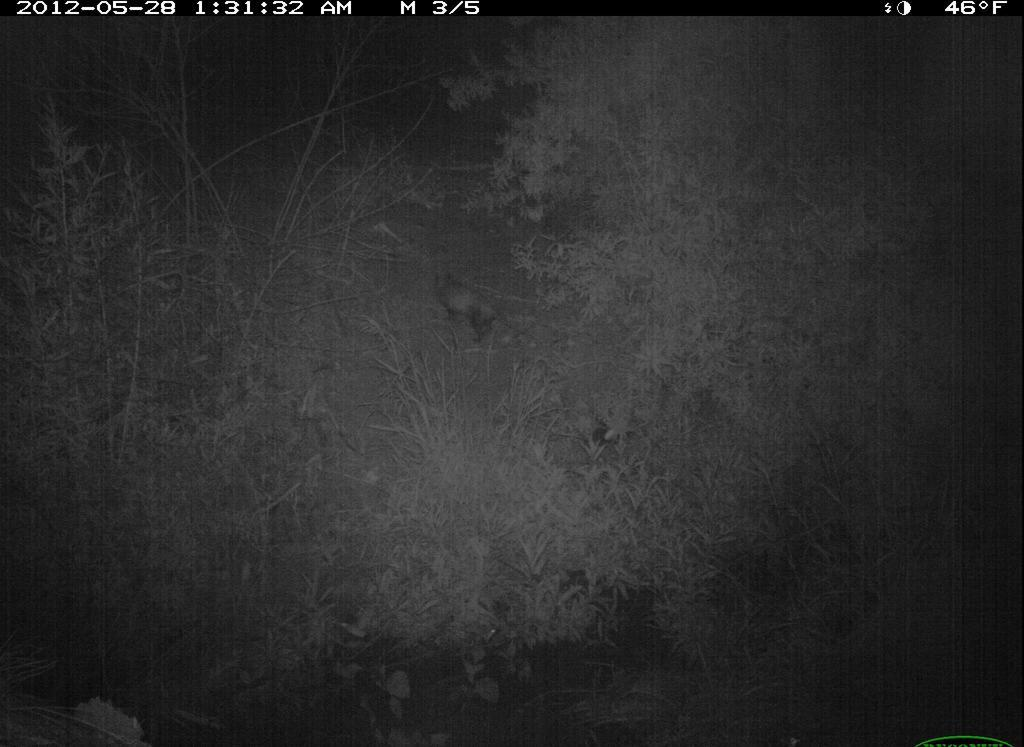opossum: (423, 259, 546, 361)
